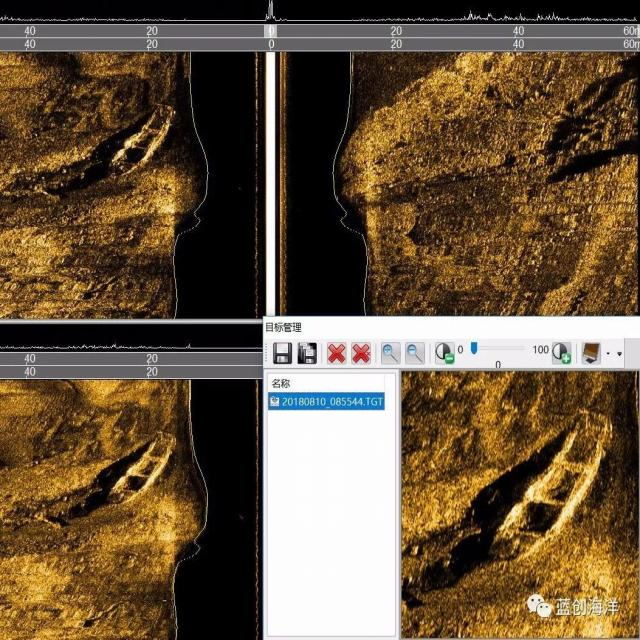ship: (491, 409, 615, 563), (107, 425, 176, 502), (109, 93, 175, 173)
